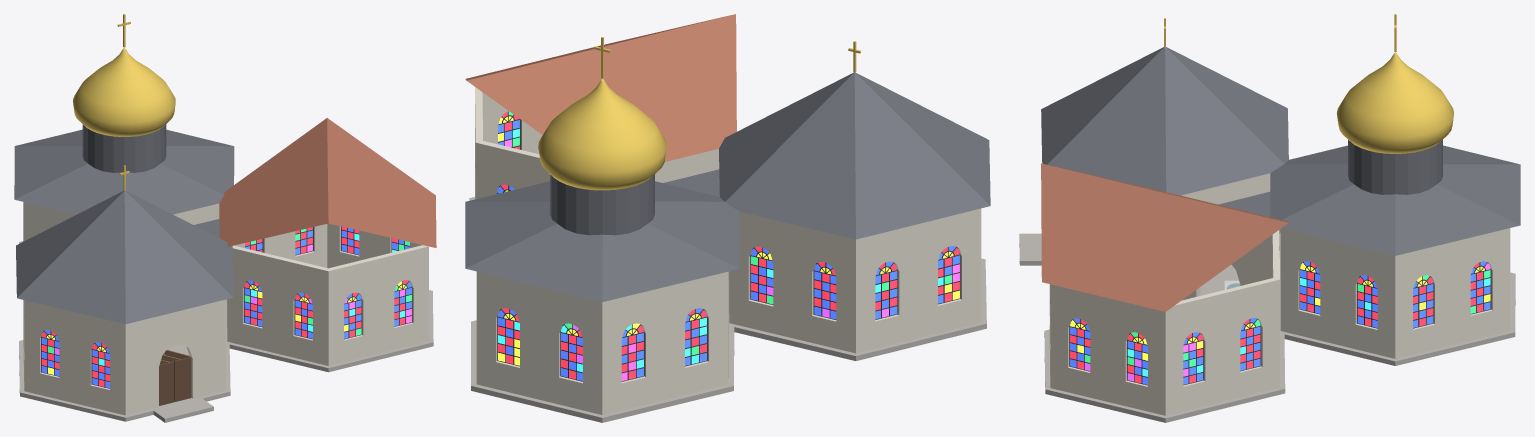
File: church.glb
The picture shows the model from 3 angles, left to right: view 1: azimuth 30°, elevation 25°; view 2: azimuth 150°, elevation 25°; view 3: azimuth 270°, elevation 25°; orthographic projection. The views are drawn at different scales.
Parts seen in each view (by area): view 1: Roof_rom, Walls_anglican, Roof_ang, Walls_roman, Roof_orth, Dome, Floor, Lead_cames, StainedGlass_cobalt, StainedGlass_ruby, Walls_orthodox, Door; view 2: Roof_rom, Roof_orth, Walls_orthodox, Walls_roman, Roof_ang, Dome, Walls_anglican, Floor, Lead_cames, StainedGlass_cobalt, StainedGlass_ruby, StainedGlass_amber (+3 smaller); view 3: Roof_rom, Walls_anglican, Roof_ang, Roof_orth, Walls_orthodox, Dome, Floor, StainedGlass_cobalt, Lead_cames, StainedGlass_ruby, Walls_roman, StainedGlass_amber (+2 smaller).
Part boxes in pixels (left/top/right/bottom): Roof_rom: left=16, top=190, right=233, bottom=324; Walls_anglican: left=226, top=223, right=428, bottom=365; Roof_ang: left=219, top=118, right=436, bottom=247; Walls_roman: left=23, top=299, right=225, bottom=415; Roof_orth: left=14, top=124, right=234, bottom=214; Dome: left=73, top=47, right=175, bottom=136; Floor: left=19, top=241, right=433, bottom=422; Lead_cames: left=41, top=226, right=412, bottom=388; StainedGlass_cobalt: left=41, top=228, right=411, bottom=388; StainedGlass_ruby: left=41, top=226, right=408, bottom=386; Walls_orthodox: left=23, top=202, right=219, bottom=241; Door: left=159, top=357, right=190, bottom=405; Roof_rom: left=719, top=72, right=990, bottom=239; Roof_orth: left=465, top=174, right=739, bottom=302; Walls_orthodox: left=476, top=271, right=728, bottom=414; Walls_roman: left=728, top=208, right=981, bottom=353; Roof_ang: left=465, top=14, right=736, bottom=161; Dome: left=538, top=78, right=666, bottom=190; Walls_anglican: left=475, top=87, right=719, bottom=199; Floor: left=469, top=197, right=986, bottom=422; Lead_cames: left=496, top=111, right=960, bottom=381; StainedGlass_cobalt: left=497, top=120, right=959, bottom=380; StainedGlass_ruby: left=498, top=111, right=959, bottom=379; StainedGlass_amber: left=498, top=116, right=959, bottom=365; Roof_rom: left=1041, top=46, right=1288, bottom=195; Walls_anglican: left=1049, top=230, right=1279, bottom=415; Roof_ang: left=1041, top=163, right=1288, bottom=311; Roof_orth: left=1270, top=140, right=1520, bottom=255; Walls_orthodox: left=1280, top=228, right=1510, bottom=358; Dome: left=1336, top=52, right=1454, bottom=153; Floor: left=1019, top=233, right=1515, bottom=422; StainedGlass_cobalt: left=1070, top=261, right=1490, bottom=384; Lead_cames: left=1069, top=262, right=1491, bottom=385; StainedGlass_ruby: left=1070, top=262, right=1483, bottom=383; Walls_roman: left=1181, top=173, right=1280, bottom=294; StainedGlass_amber: left=1070, top=263, right=1490, bottom=360.
Size of what is drawn, in the model's own units: 32.43 by 19.7 by 29.45.
